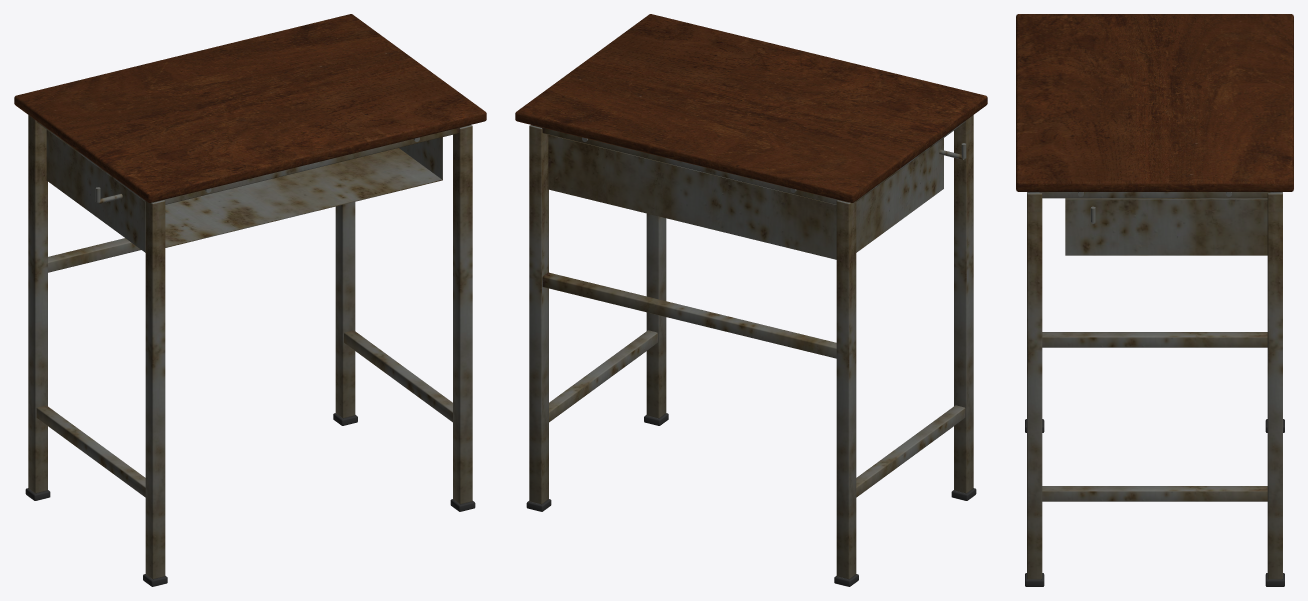
The picture shows the model from 3 angles, left to right: view 1: azimuth 30°, elevation 25°; view 2: azimuth 150°, elevation 25°; view 3: azimuth 270°, elevation 25°; orthographic projection. The views are drawn at different scales.
Visible parts, largest first — view 1: R02-01_StudentDesk; view 2: R02-01_StudentDesk; view 3: R02-01_StudentDesk.
Part boxes in pixels (x1,y1,x2,y2): R02-01_StudentDesk: (14,14,486,586); R02-01_StudentDesk: (515,14,987,586); R02-01_StudentDesk: (1016,14,1293,586).
Size of the model in its own units: 0.708 by 0.73 by 0.45.
Materials: 3 (2 with a texture image).
